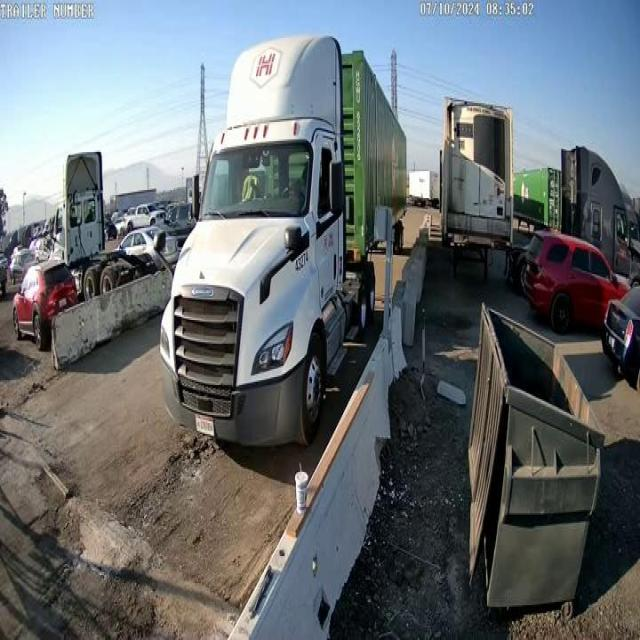TRUCK_OUT: (158, 33, 408, 450)
